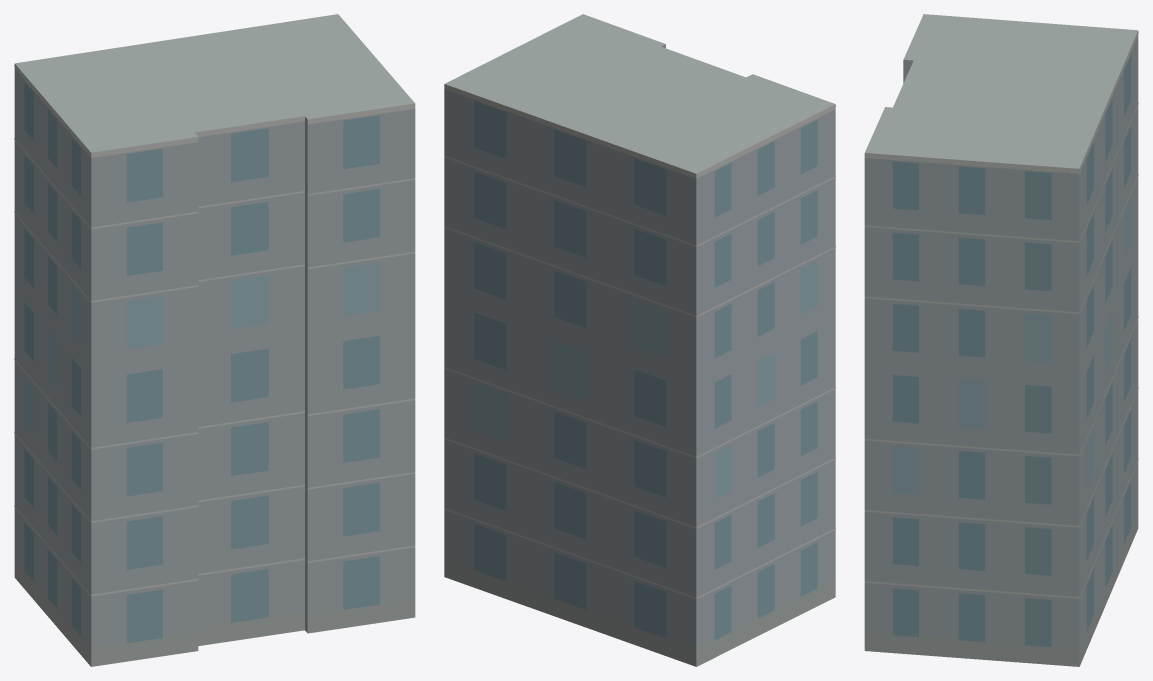
The model's file is survey-upis-32610351.glb.
The picture shows the model from 3 angles, left to right: view 1: azimuth 30°, elevation 25°; view 2: azimuth 150°, elevation 25°; view 3: azimuth 270°, elevation 25°; orthographic projection. The views are drawn at different scales.
Visible parts, largest first — view 1: survey-upis-32610351.tmp; view 2: survey-upis-32610351.tmp; view 3: survey-upis-32610351.tmp.
Boxes of the visible parts, left/top/right/bottom form: survey-upis-32610351.tmp: left=14, top=14, right=415, bottom=666; survey-upis-32610351.tmp: left=444, top=14, right=835, bottom=666; survey-upis-32610351.tmp: left=864, top=14, right=1138, bottom=666.
Size of the model in its own units: 15.83 by 23.7 by 11.83.
